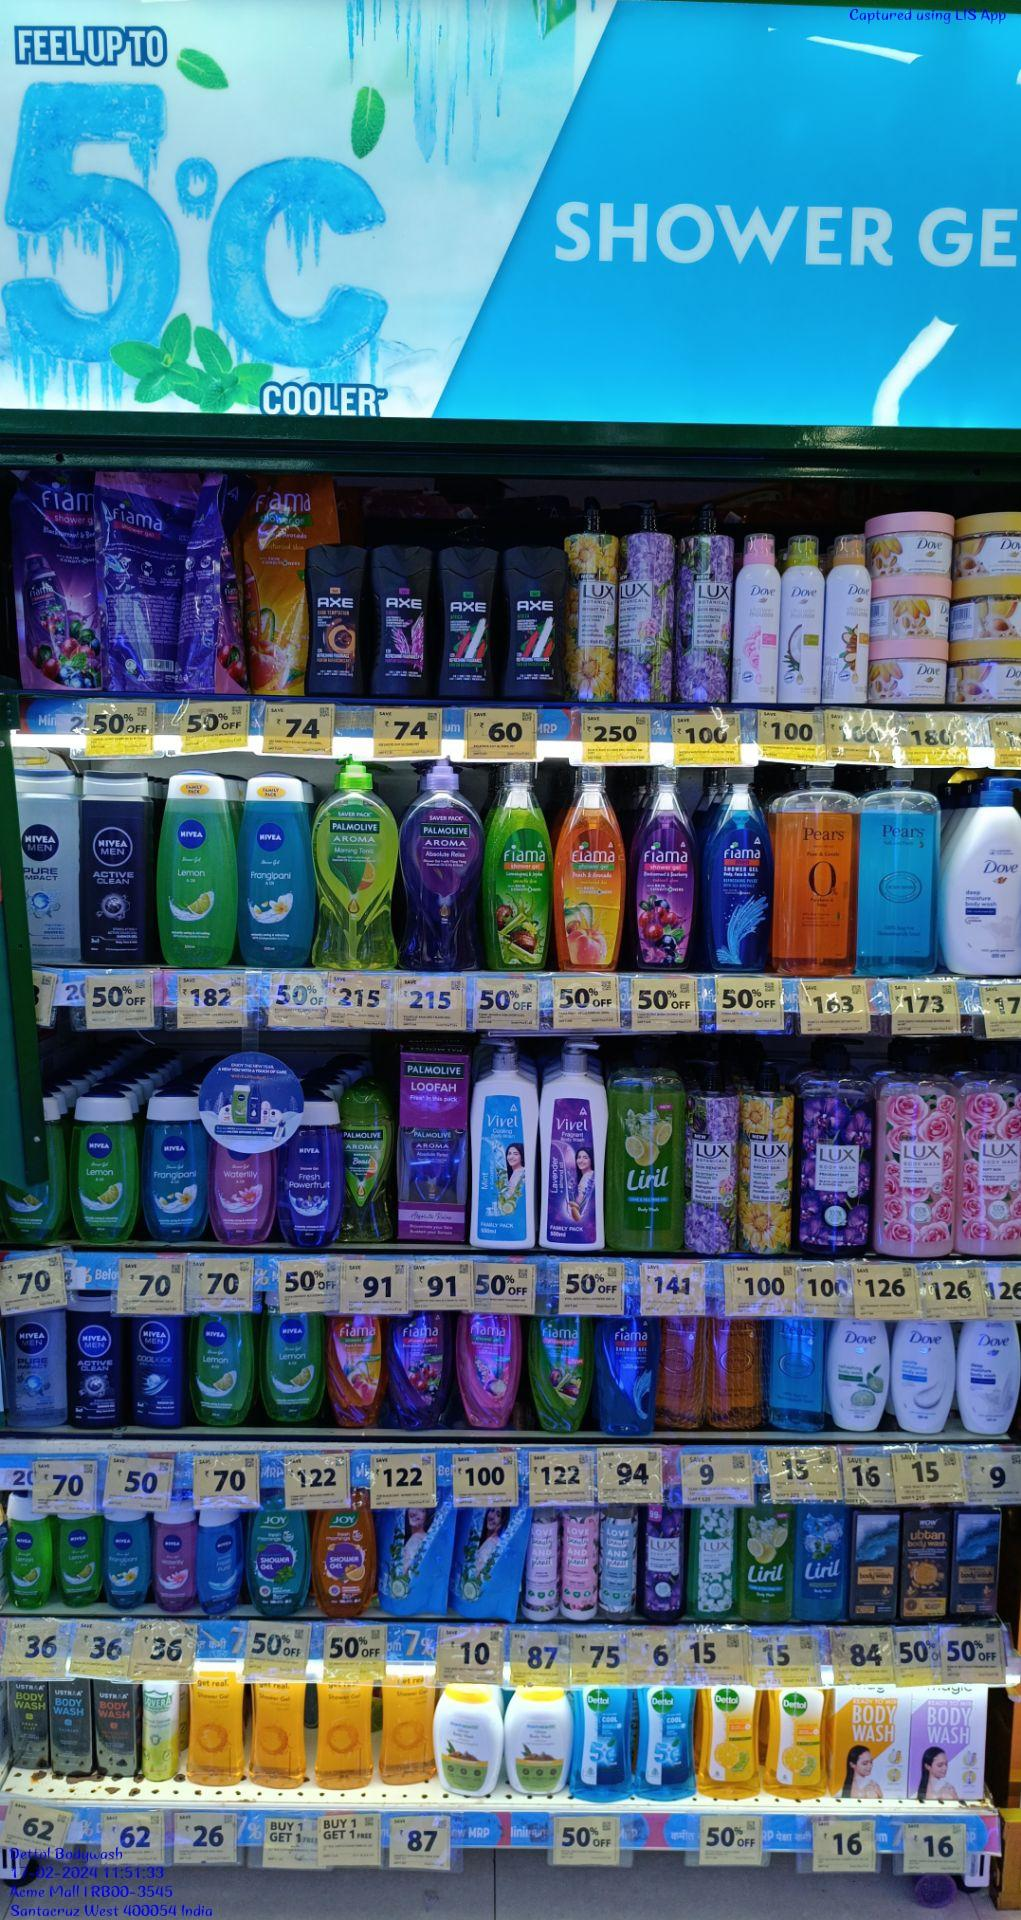Dettol_Bodywash_Cool: (575, 1688, 632, 1802), (637, 1689, 693, 1799)
Dettol_Bodywash_Refresh: (697, 1689, 761, 1801), (770, 1690, 828, 1801)
Dove_Deep_Moisture_Body_Wash_250ML: (959, 1321, 1021, 1435)
Dove_Gentle_Exfoliating_Body_Wash_250ML: (891, 1321, 955, 1434)
Dove_Refreshing_Body_Wash_250ML: (827, 1319, 889, 1430)
Fiama_Shower_Gel_Lemongrass_and_Jojoba_250ML: (530, 1313, 593, 1431)
Fiama_Shower_Gel_Patchouli_and_Macadamia_250ML: (460, 1310, 519, 1427)
Fiama_Shower_Gel_Peach_and_Avocado_250ML: (328, 1316, 380, 1427)
Get_Real_Shower_Gel_Moisturising_Glycerin_300ML: (248, 1661, 306, 1789), (187, 1662, 244, 1787), (315, 1684, 371, 1788), (382, 1684, 436, 1787)
Joy_Shower_Gel_Mandarin_and_Lemongrass_250ML: (315, 1490, 376, 1618)
Joy_Shower_Gel_Mint_and_Eucalyptus_250ML: (248, 1490, 311, 1618)
Liril_Cooling_Mint_Body_Wash_250ML: (797, 1501, 848, 1622)
Liril_Lime_and_Tea_Tree_Oil_Body_Wash_250ML: (740, 1505, 791, 1623)
Lux_Black_Orchid_Scent_and_Juniper_Oil_Body_Wash_245ML: (641, 1505, 686, 1623)
Lux_Body_Wash_Skin_Detox_Freesia_Scent_and_Alove_Vera_245ML: (695, 1507, 735, 1620)
Nivea_Shower_Gel_Frangipani_and_Oil_250ML: (241, 777, 317, 964), (143, 1093, 203, 1241)
Nivea_Shower_Gel_Fresh_Powerfruit_250ML: (282, 1097, 340, 1246)
Nivea_Shower_Gel_Lemon_and_Oil_250ML: (161, 771, 234, 965), (75, 1093, 135, 1243), (264, 1313, 325, 1427), (192, 1313, 253, 1425)
Nivea_Shower_Gel_Waterlily_and_Oil_250ML: (216, 1131, 273, 1246)
